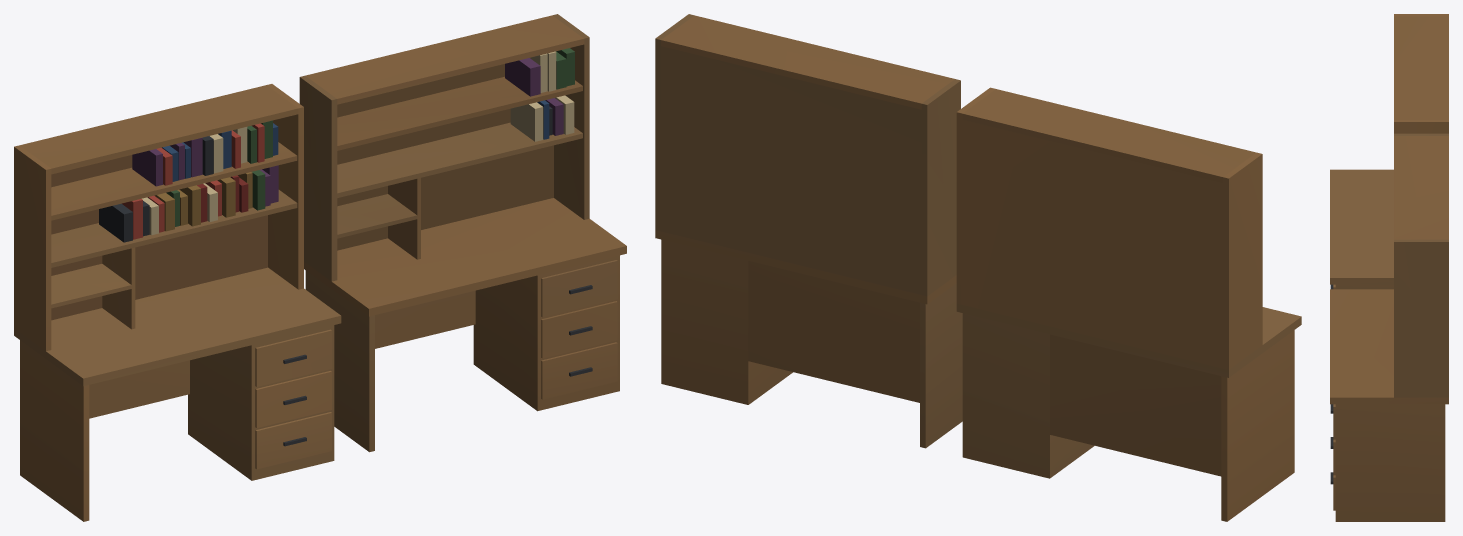
File: table.desk_hutch_pair.empty.glb
The picture shows the model from 3 angles, left to right: view 1: azimuth 30°, elevation 25°; view 2: azimuth 150°, elevation 25°; view 3: azimuth 270°, elevation 25°; orthographic projection. The views are drawn at different scales.
Parts seen in each view (by area): view 1: table_desk_hutch_pair_empty; view 2: table_desk_hutch_pair_empty; view 3: table_desk_hutch_pair_empty.
Boxes of the visible parts, x1,y1,x2,y2 form: table_desk_hutch_pair_empty: (14, 14, 626, 521); table_desk_hutch_pair_empty: (655, 14, 1301, 521); table_desk_hutch_pair_empty: (1330, 14, 1448, 521).
Size of what is drawn, in the model's own units: 2.95 by 1.7 by 0.65.
